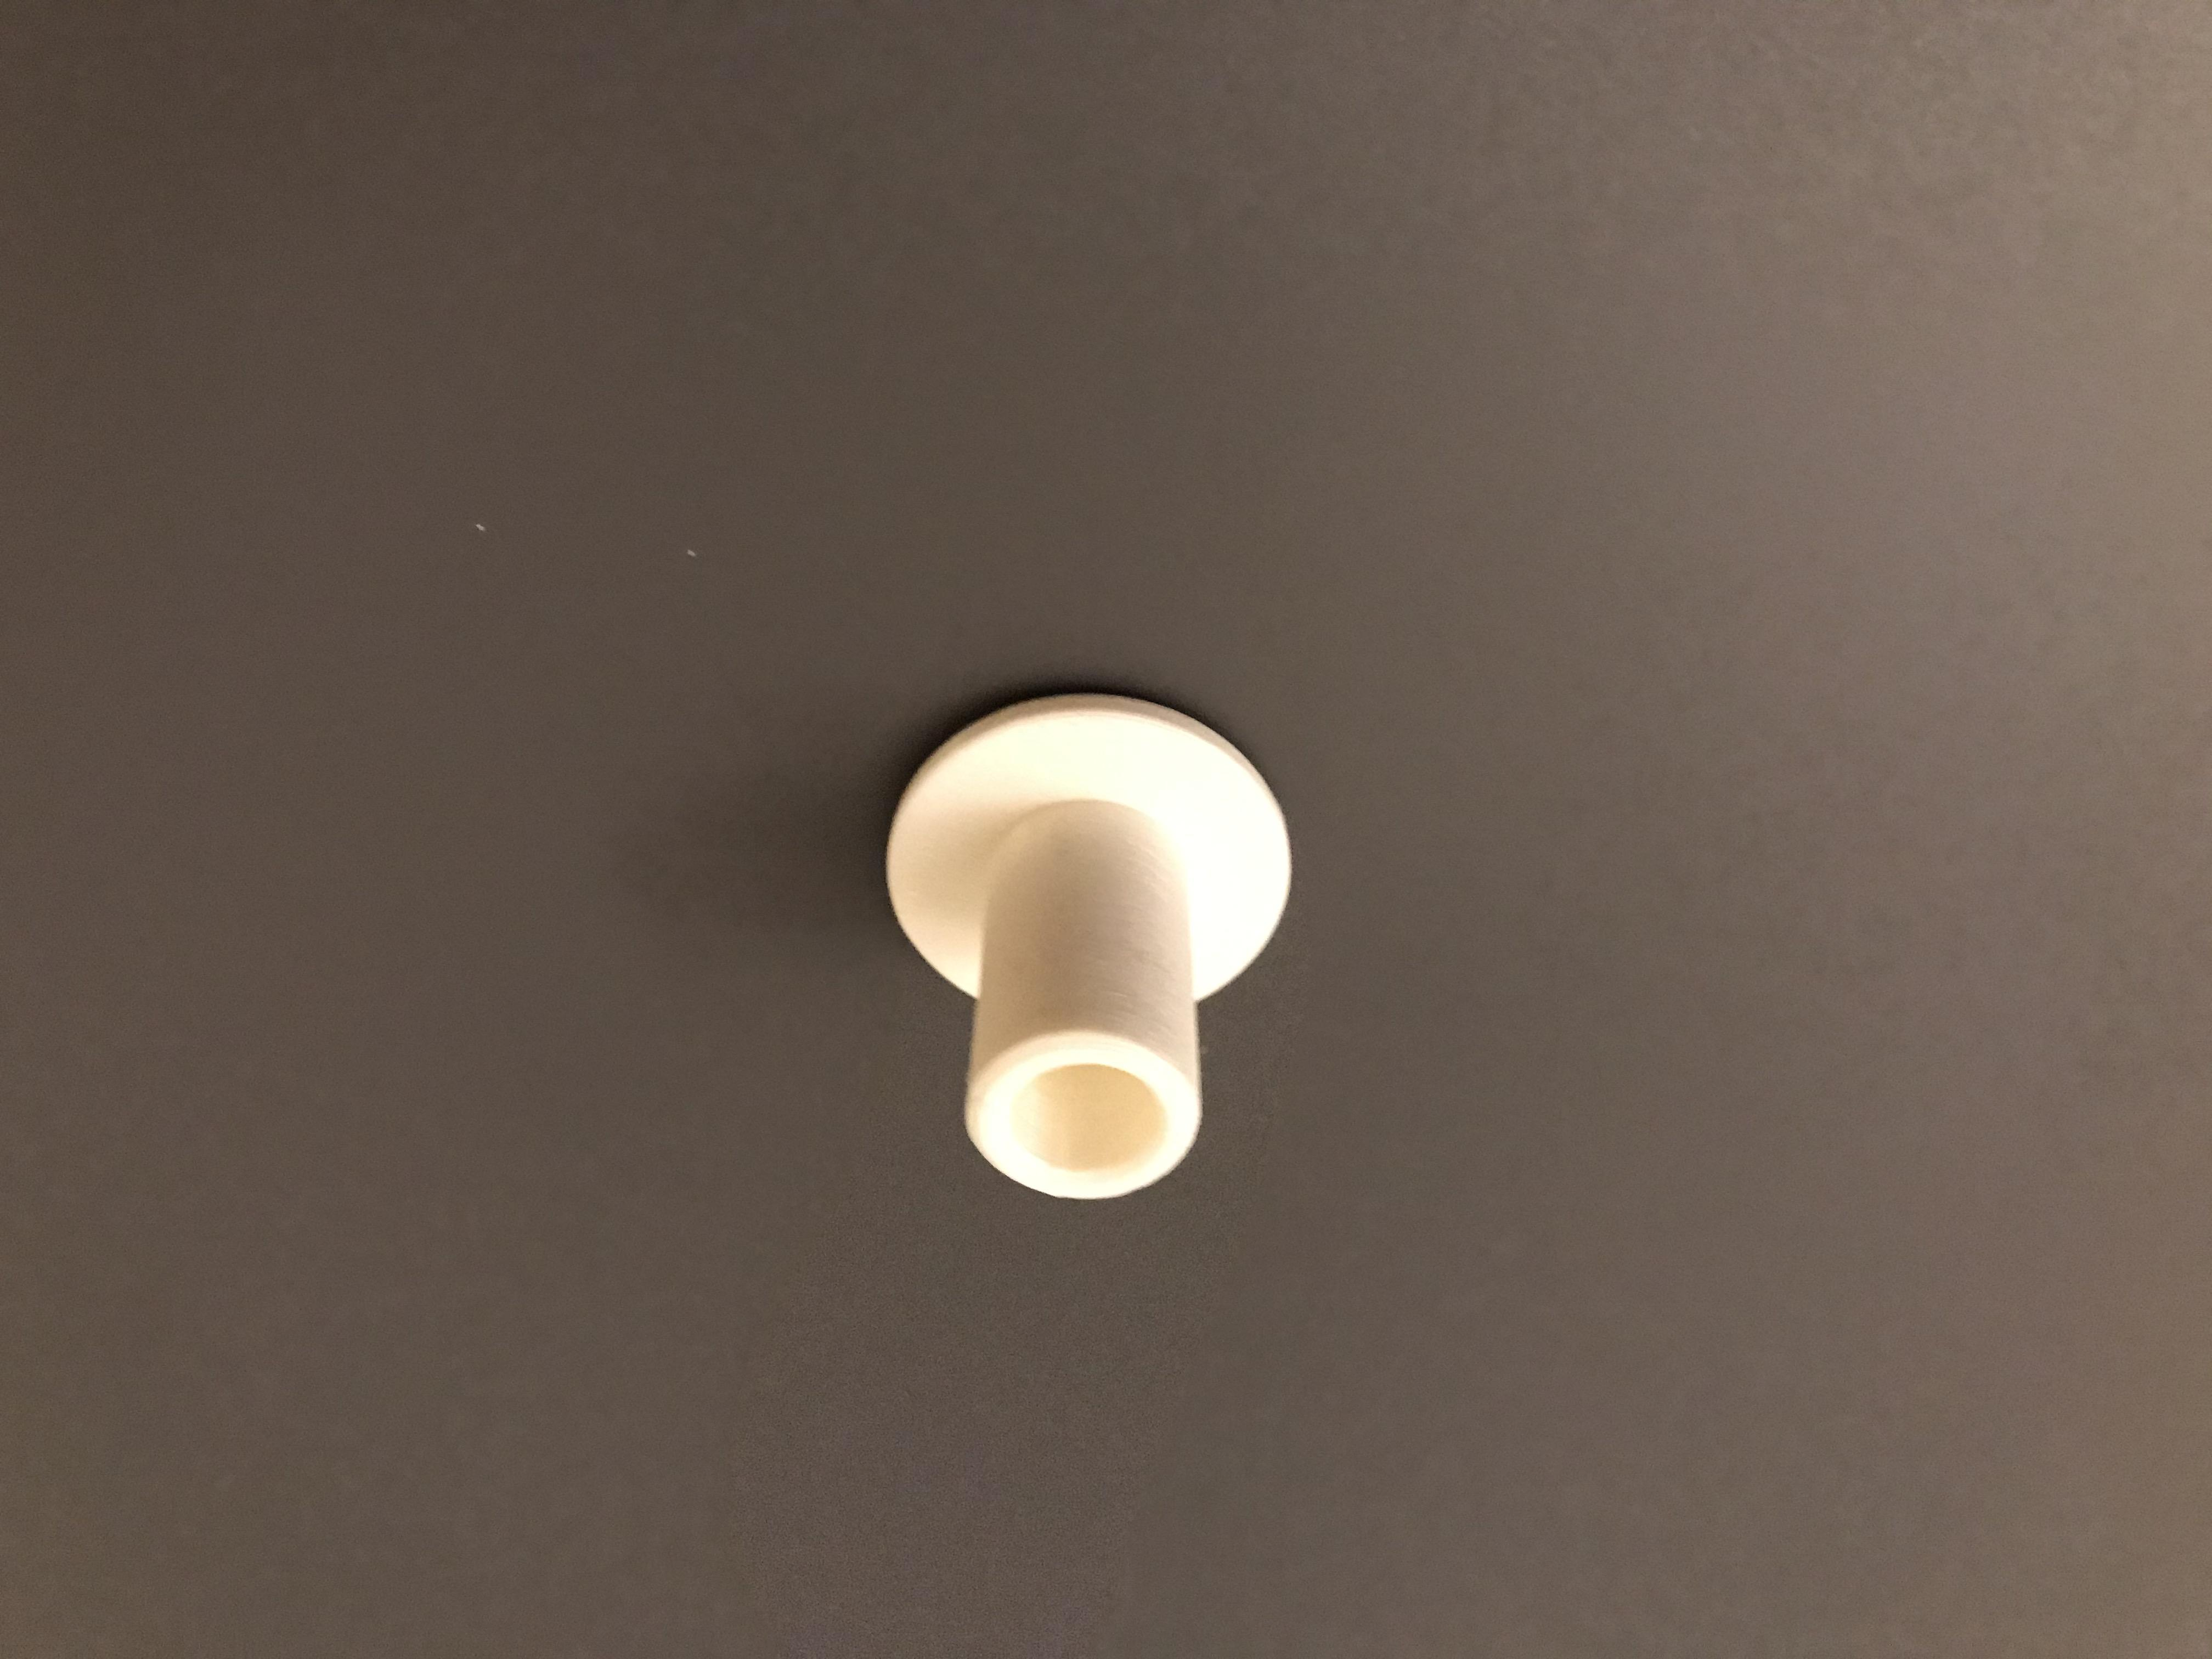White Cone: (866, 681, 1313, 1229)
